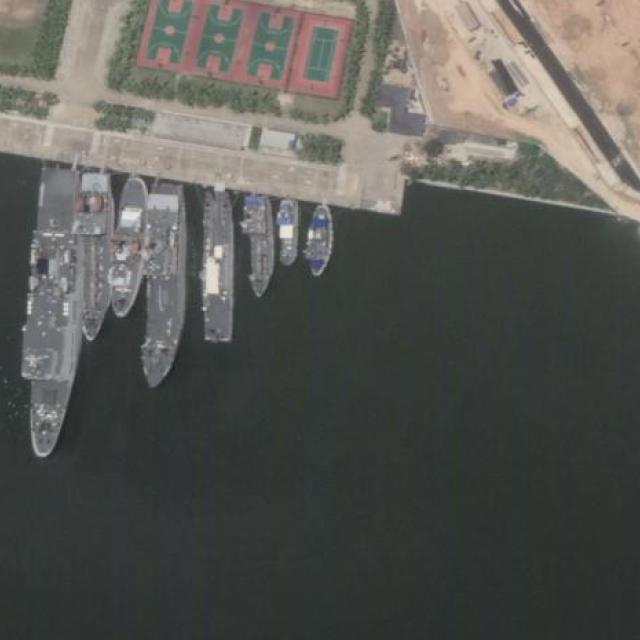Landing: (18, 164, 85, 460), (239, 193, 277, 299)
Other Warship: (144, 186, 189, 389), (107, 171, 155, 321), (199, 191, 237, 345), (82, 175, 113, 340), (304, 204, 334, 279), (277, 199, 299, 269)
